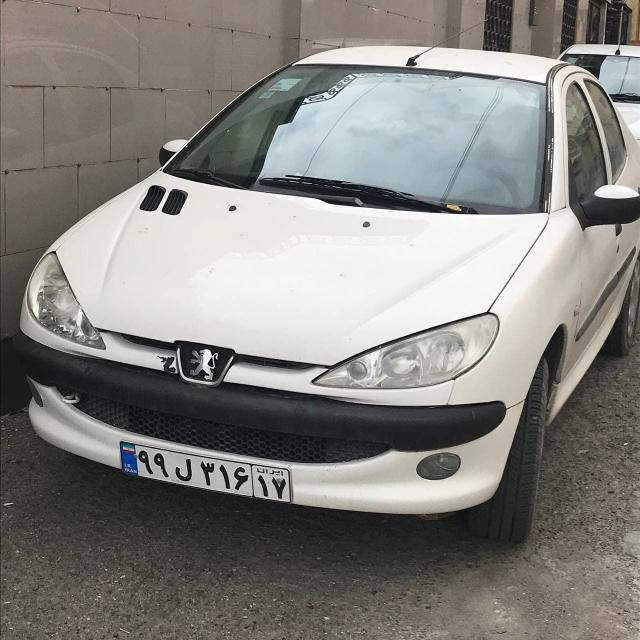Plates: (116, 442, 295, 502)
